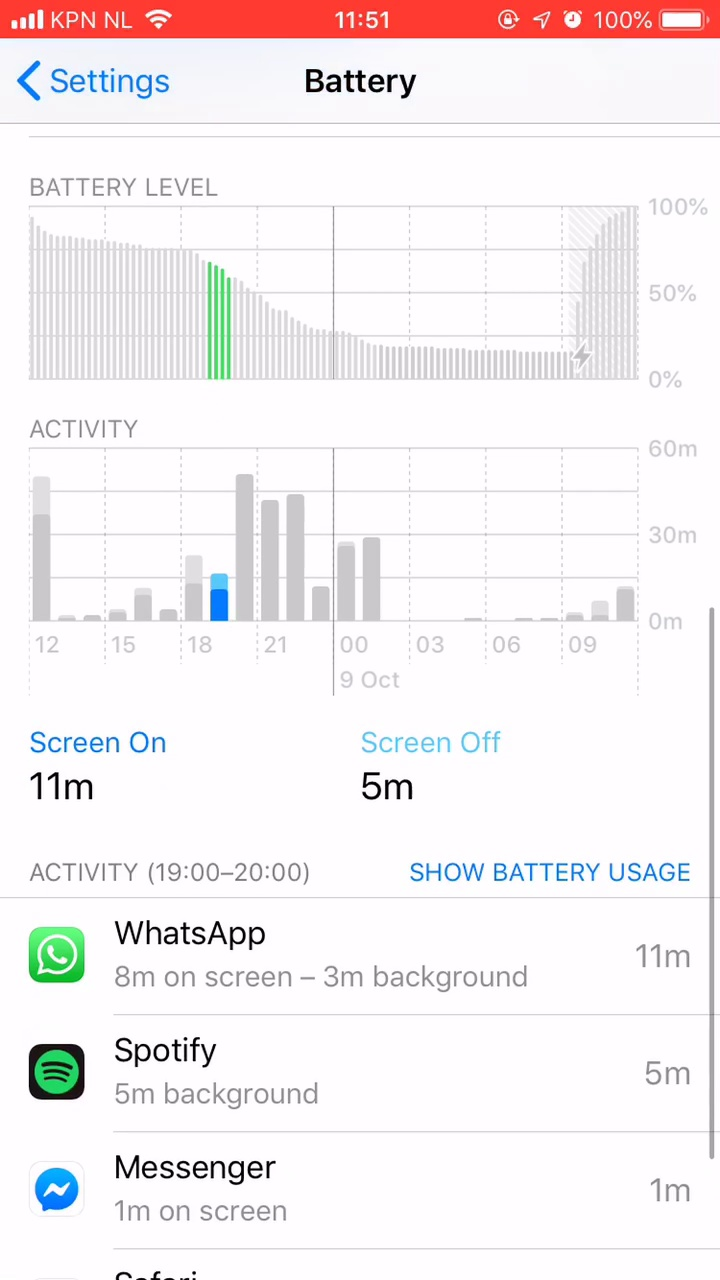activity: (26, 848, 335, 890)
app: (28, 910, 698, 1003), (23, 1027, 693, 1120), (33, 1144, 703, 1237)
